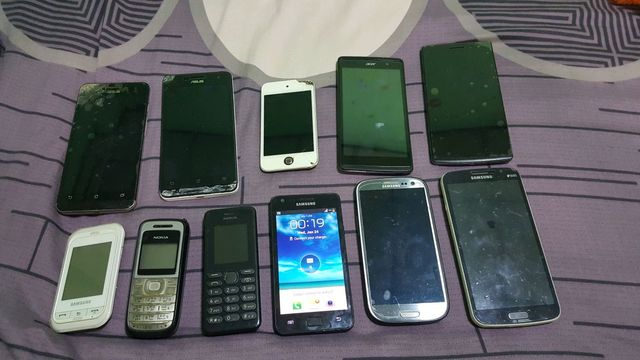Phone: (439, 168, 564, 328), (355, 177, 450, 328), (54, 80, 151, 218), (267, 192, 357, 336), (419, 39, 514, 167), (158, 69, 241, 202), (334, 55, 414, 177), (49, 222, 125, 336), (201, 204, 262, 337), (125, 218, 192, 338), (258, 79, 321, 174)
